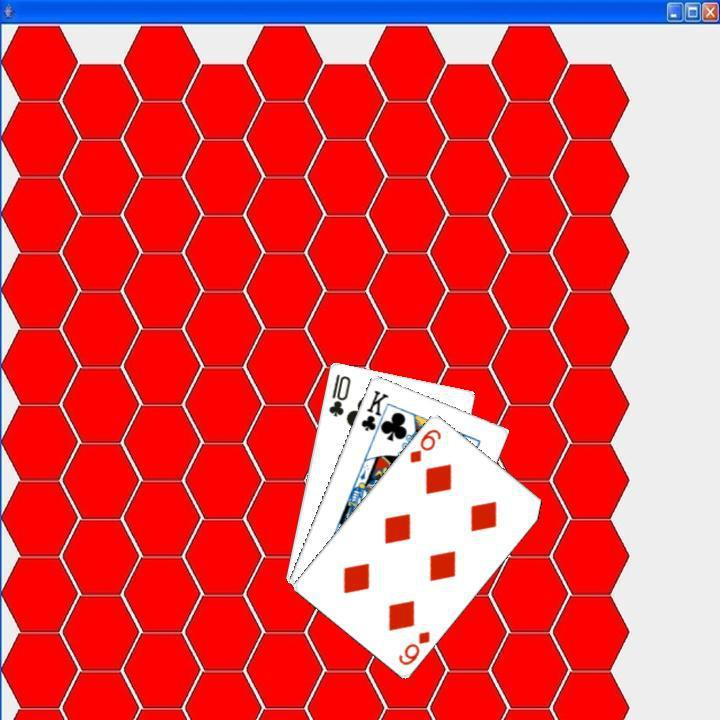10: (324, 369, 352, 418)
6: (405, 424, 443, 465), (394, 626, 432, 667)
K: (356, 385, 392, 440)
